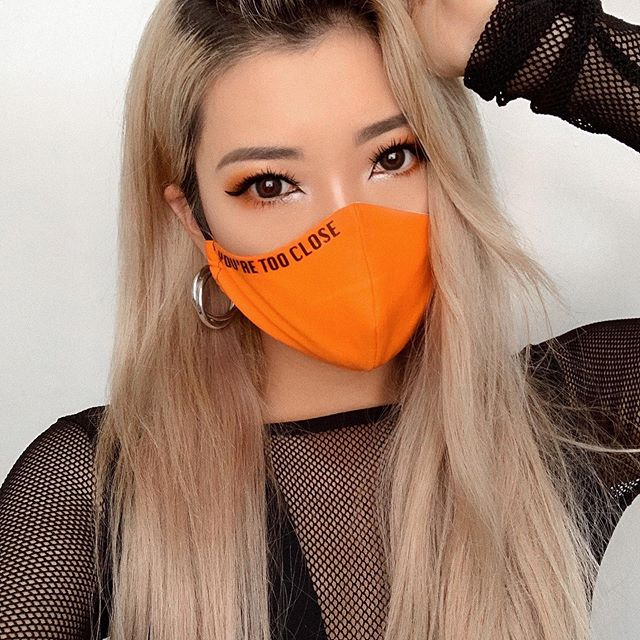homemade: (193, 212, 484, 369)
